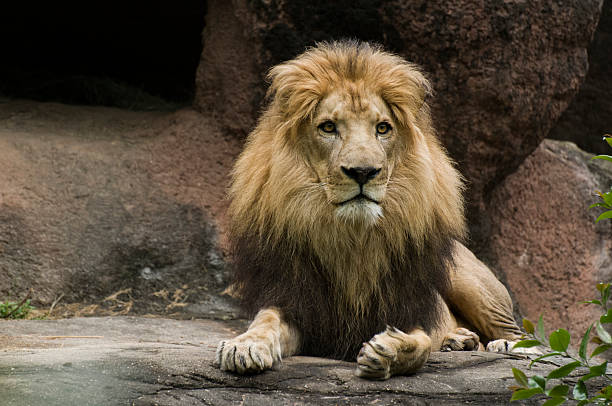lion: (197, 32, 485, 337)
